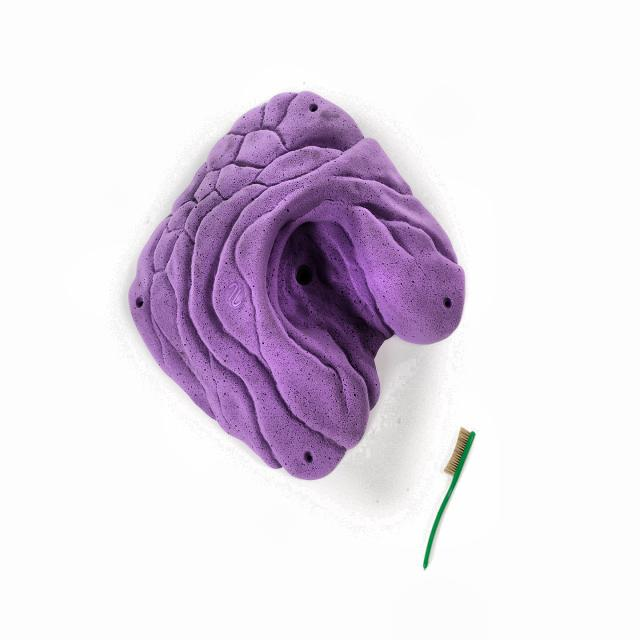Hold: (126, 93, 468, 480)
